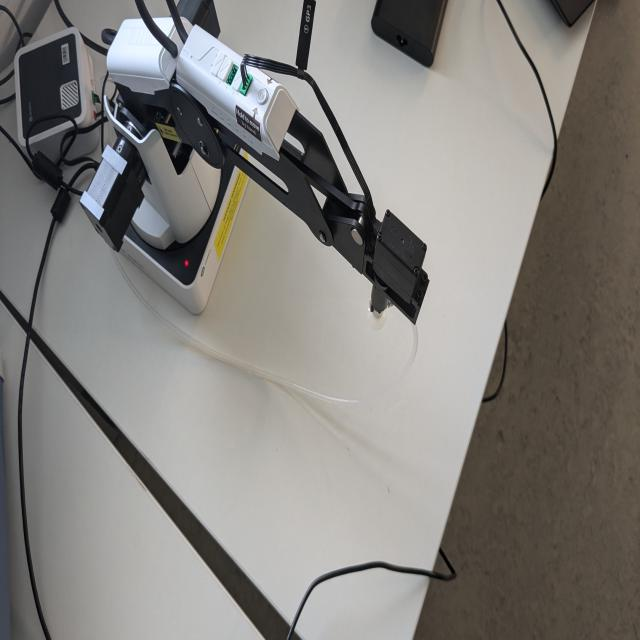Robot-end-effector-HF8z: (364, 205, 431, 334)
